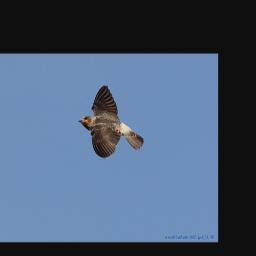Swallow: (76, 84, 145, 159)
